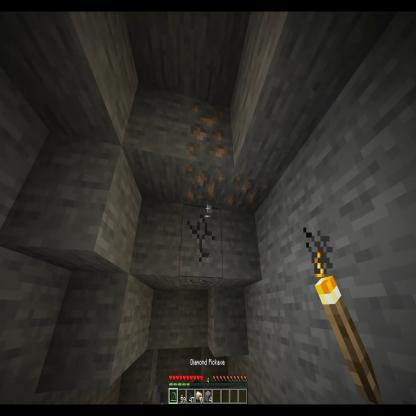iron ore: (186, 98, 234, 214), (226, 170, 278, 219)
